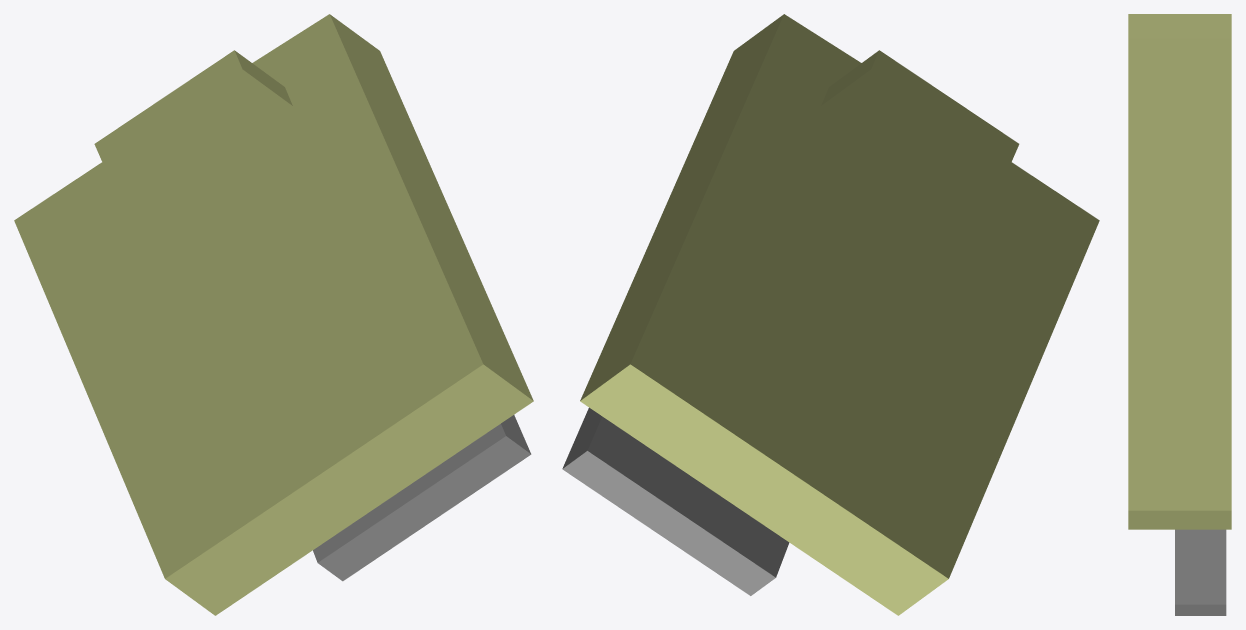
The picture shows the model from 3 angles, left to right: view 1: azimuth 30°, elevation 25°; view 2: azimuth 150°, elevation 25°; view 3: azimuth 270°, elevation 25°; orthographic projection. The views are drawn at different scales.
Parts seen in each view (by area): view 1: 0_1_0_2_0_0_3_2_3; view 2: 0_1_0_2_0_0_3_2_3; view 3: 0_1_0_2_0_0_3_2_3.
Boxes of the visible parts, bbox=[...] form: 0_1_0_2_0_0_3_2_3: bbox=[14, 14, 533, 615]; 0_1_0_2_0_0_3_2_3: bbox=[562, 14, 1099, 615]; 0_1_0_2_0_0_3_2_3: bbox=[1128, 14, 1231, 615].
Bounding box in the file's own units: 33.59 × 35.64 × 6.
